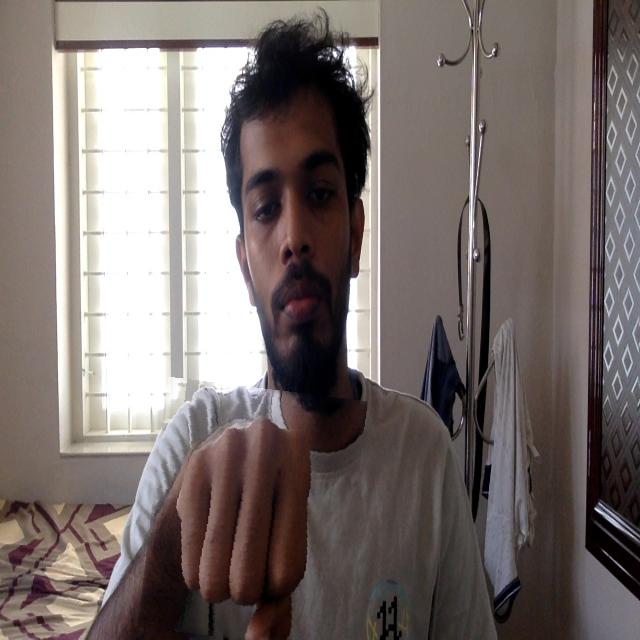Yes: (144, 382, 360, 640)
